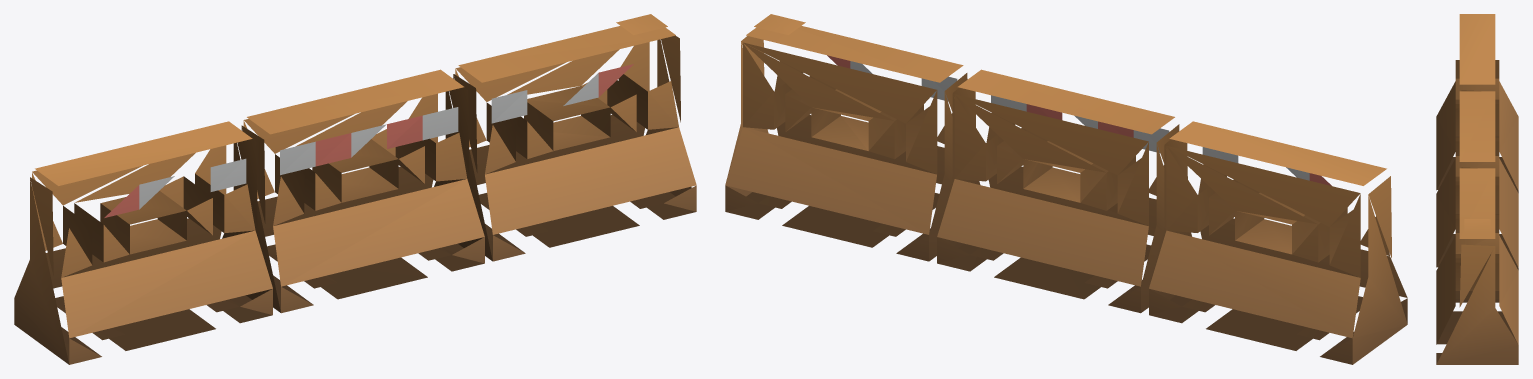
File: orange.lod.glb
3 views of the same model, side by side, from view 1: azimuth 30°, elevation 25°; view 2: azimuth 150°, elevation 25°; view 3: azimuth 270°, elevation 25° (orthographic). The views are drawn at different scales.
Visible parts, largest first — view 1: orange; view 2: orange; view 3: orange.
Part boxes in pixels (x1=…): orange: x1=14, y1=14, x2=696, y2=364; orange: x1=725, y1=14, x2=1407, y2=364; orange: x1=1436, y1=14, x2=1518, y2=364.
Size of the model in its own units: 3.95 by 1.04 by 0.6.
